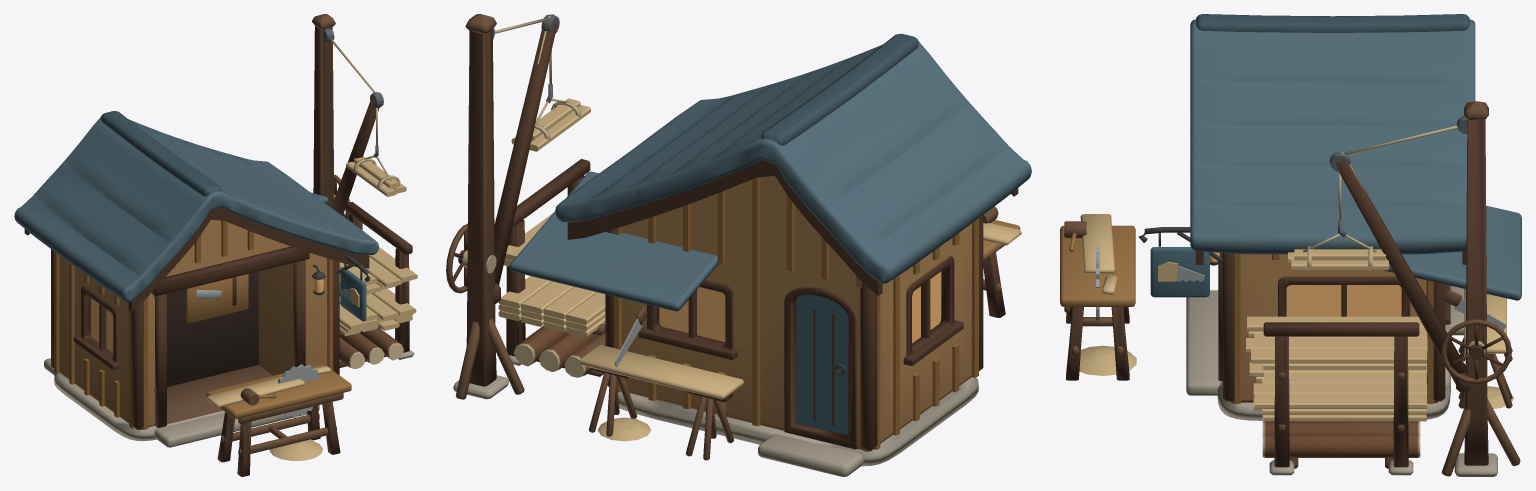
File: BLD_Workshop_A.fbx
3 renders of one model, left to right at view 1: azimuth 30°, elevation 25°; view 2: azimuth 150°, elevation 25°; view 3: azimuth 270°, elevation 25°, orthographic. The views are drawn at different scales.
Parts seen in each view (by area): view 1: BLD_Workshop_A_Body_LOD0, BLD_Workshop_A_Load_LOD0, BLD_Workshop_A_Sign_LOD0; view 2: BLD_Workshop_A_Body_LOD0, BLD_Workshop_A_Load_LOD0; view 3: BLD_Workshop_A_Body_LOD0, BLD_Workshop_A_Sign_LOD0, BLD_Workshop_A_Load_LOD0.
Boxes of the visible parts, x1,y1,x2,y2 form: BLD_Workshop_A_Body_LOD0: (14, 14, 417, 476); BLD_Workshop_A_Load_LOD0: (346, 108, 406, 196); BLD_Workshop_A_Sign_LOD0: (340, 263, 366, 321); BLD_Workshop_A_Body_LOD0: (446, 14, 1031, 476); BLD_Workshop_A_Load_LOD0: (511, 50, 590, 151); BLD_Workshop_A_Body_LOD0: (1060, 14, 1521, 476); BLD_Workshop_A_Sign_LOD0: (1150, 233, 1209, 297); BLD_Workshop_A_Load_LOD0: (1288, 172, 1388, 270).
Size of what is drawn, in the model's own units: 4.85 by 3.98 by 4.54.
